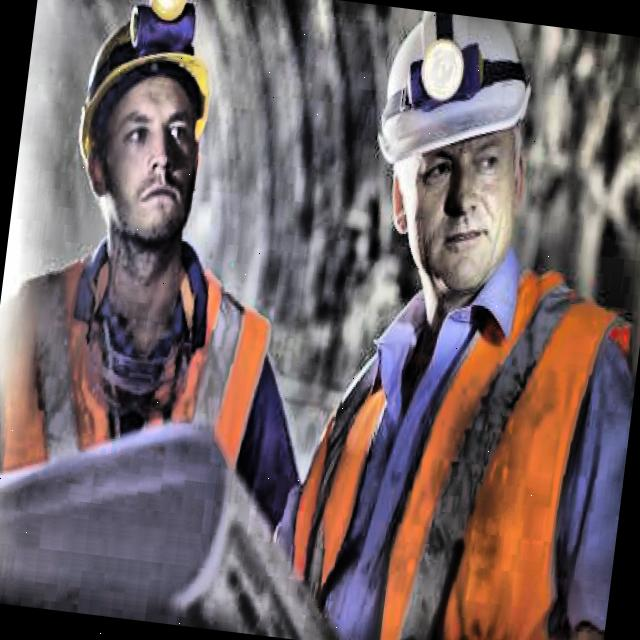helmet: (344, 15, 556, 328), (42, 0, 238, 291)
